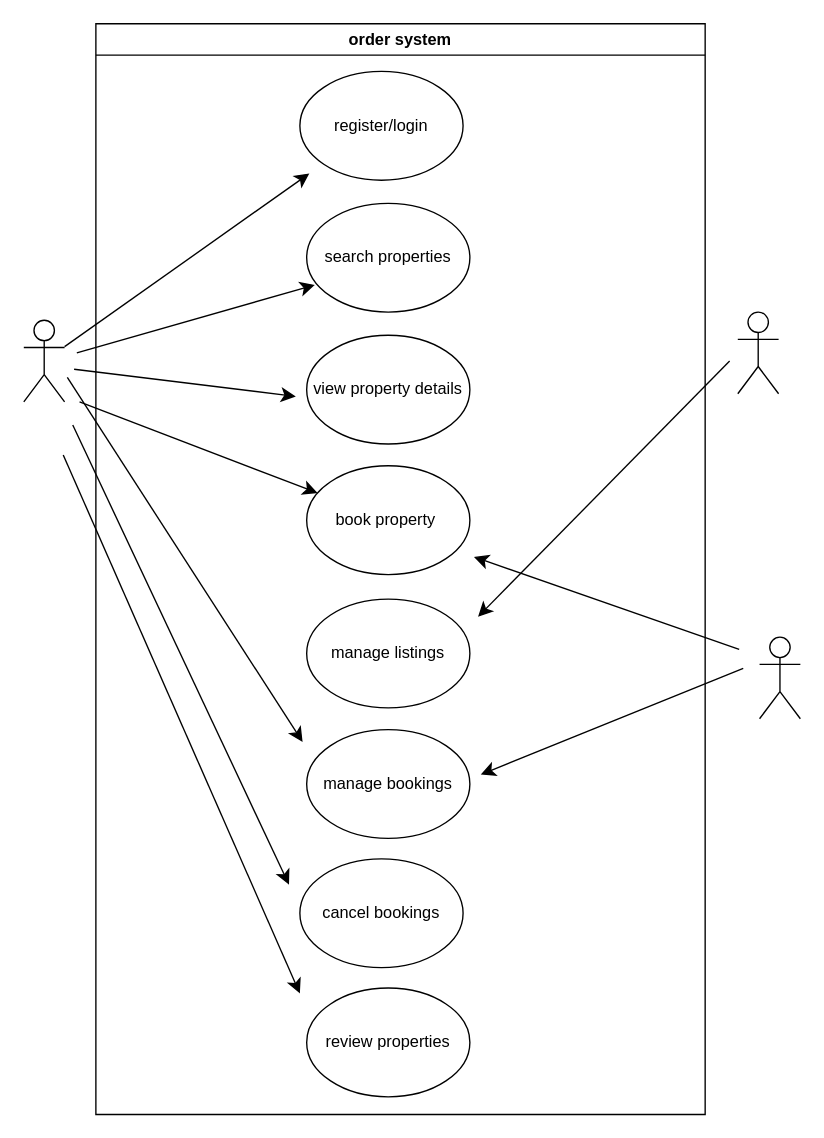
This 824x1138 diagram has some shape labels left out. Here are the shapes that lost their labels. From the top down, the box of each, then its label:
(22, 319, 65, 402): guest
(736, 311, 779, 394): admin
(758, 636, 800, 719): host
